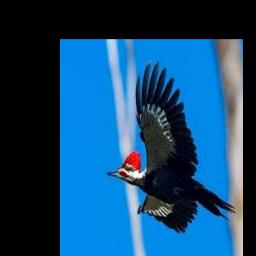Woodpecker: (107, 60, 236, 232)
